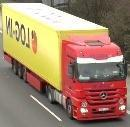Truck: (2, 3, 128, 122)
